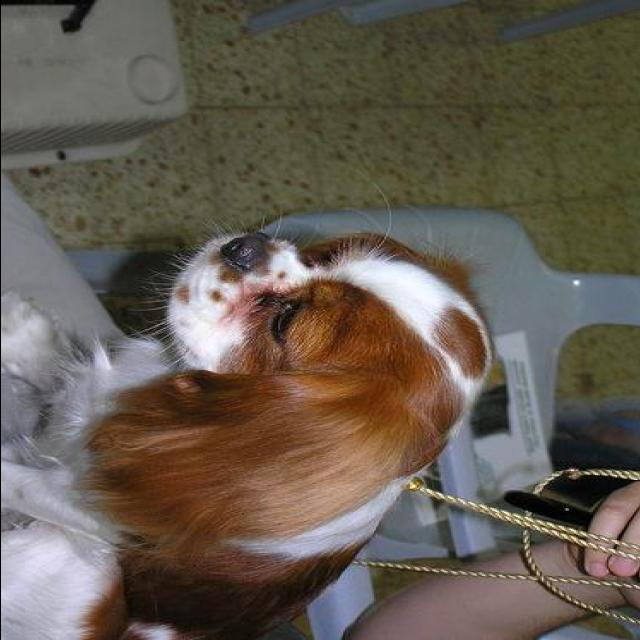blenheim_spaniel: (2, 226, 494, 638)
